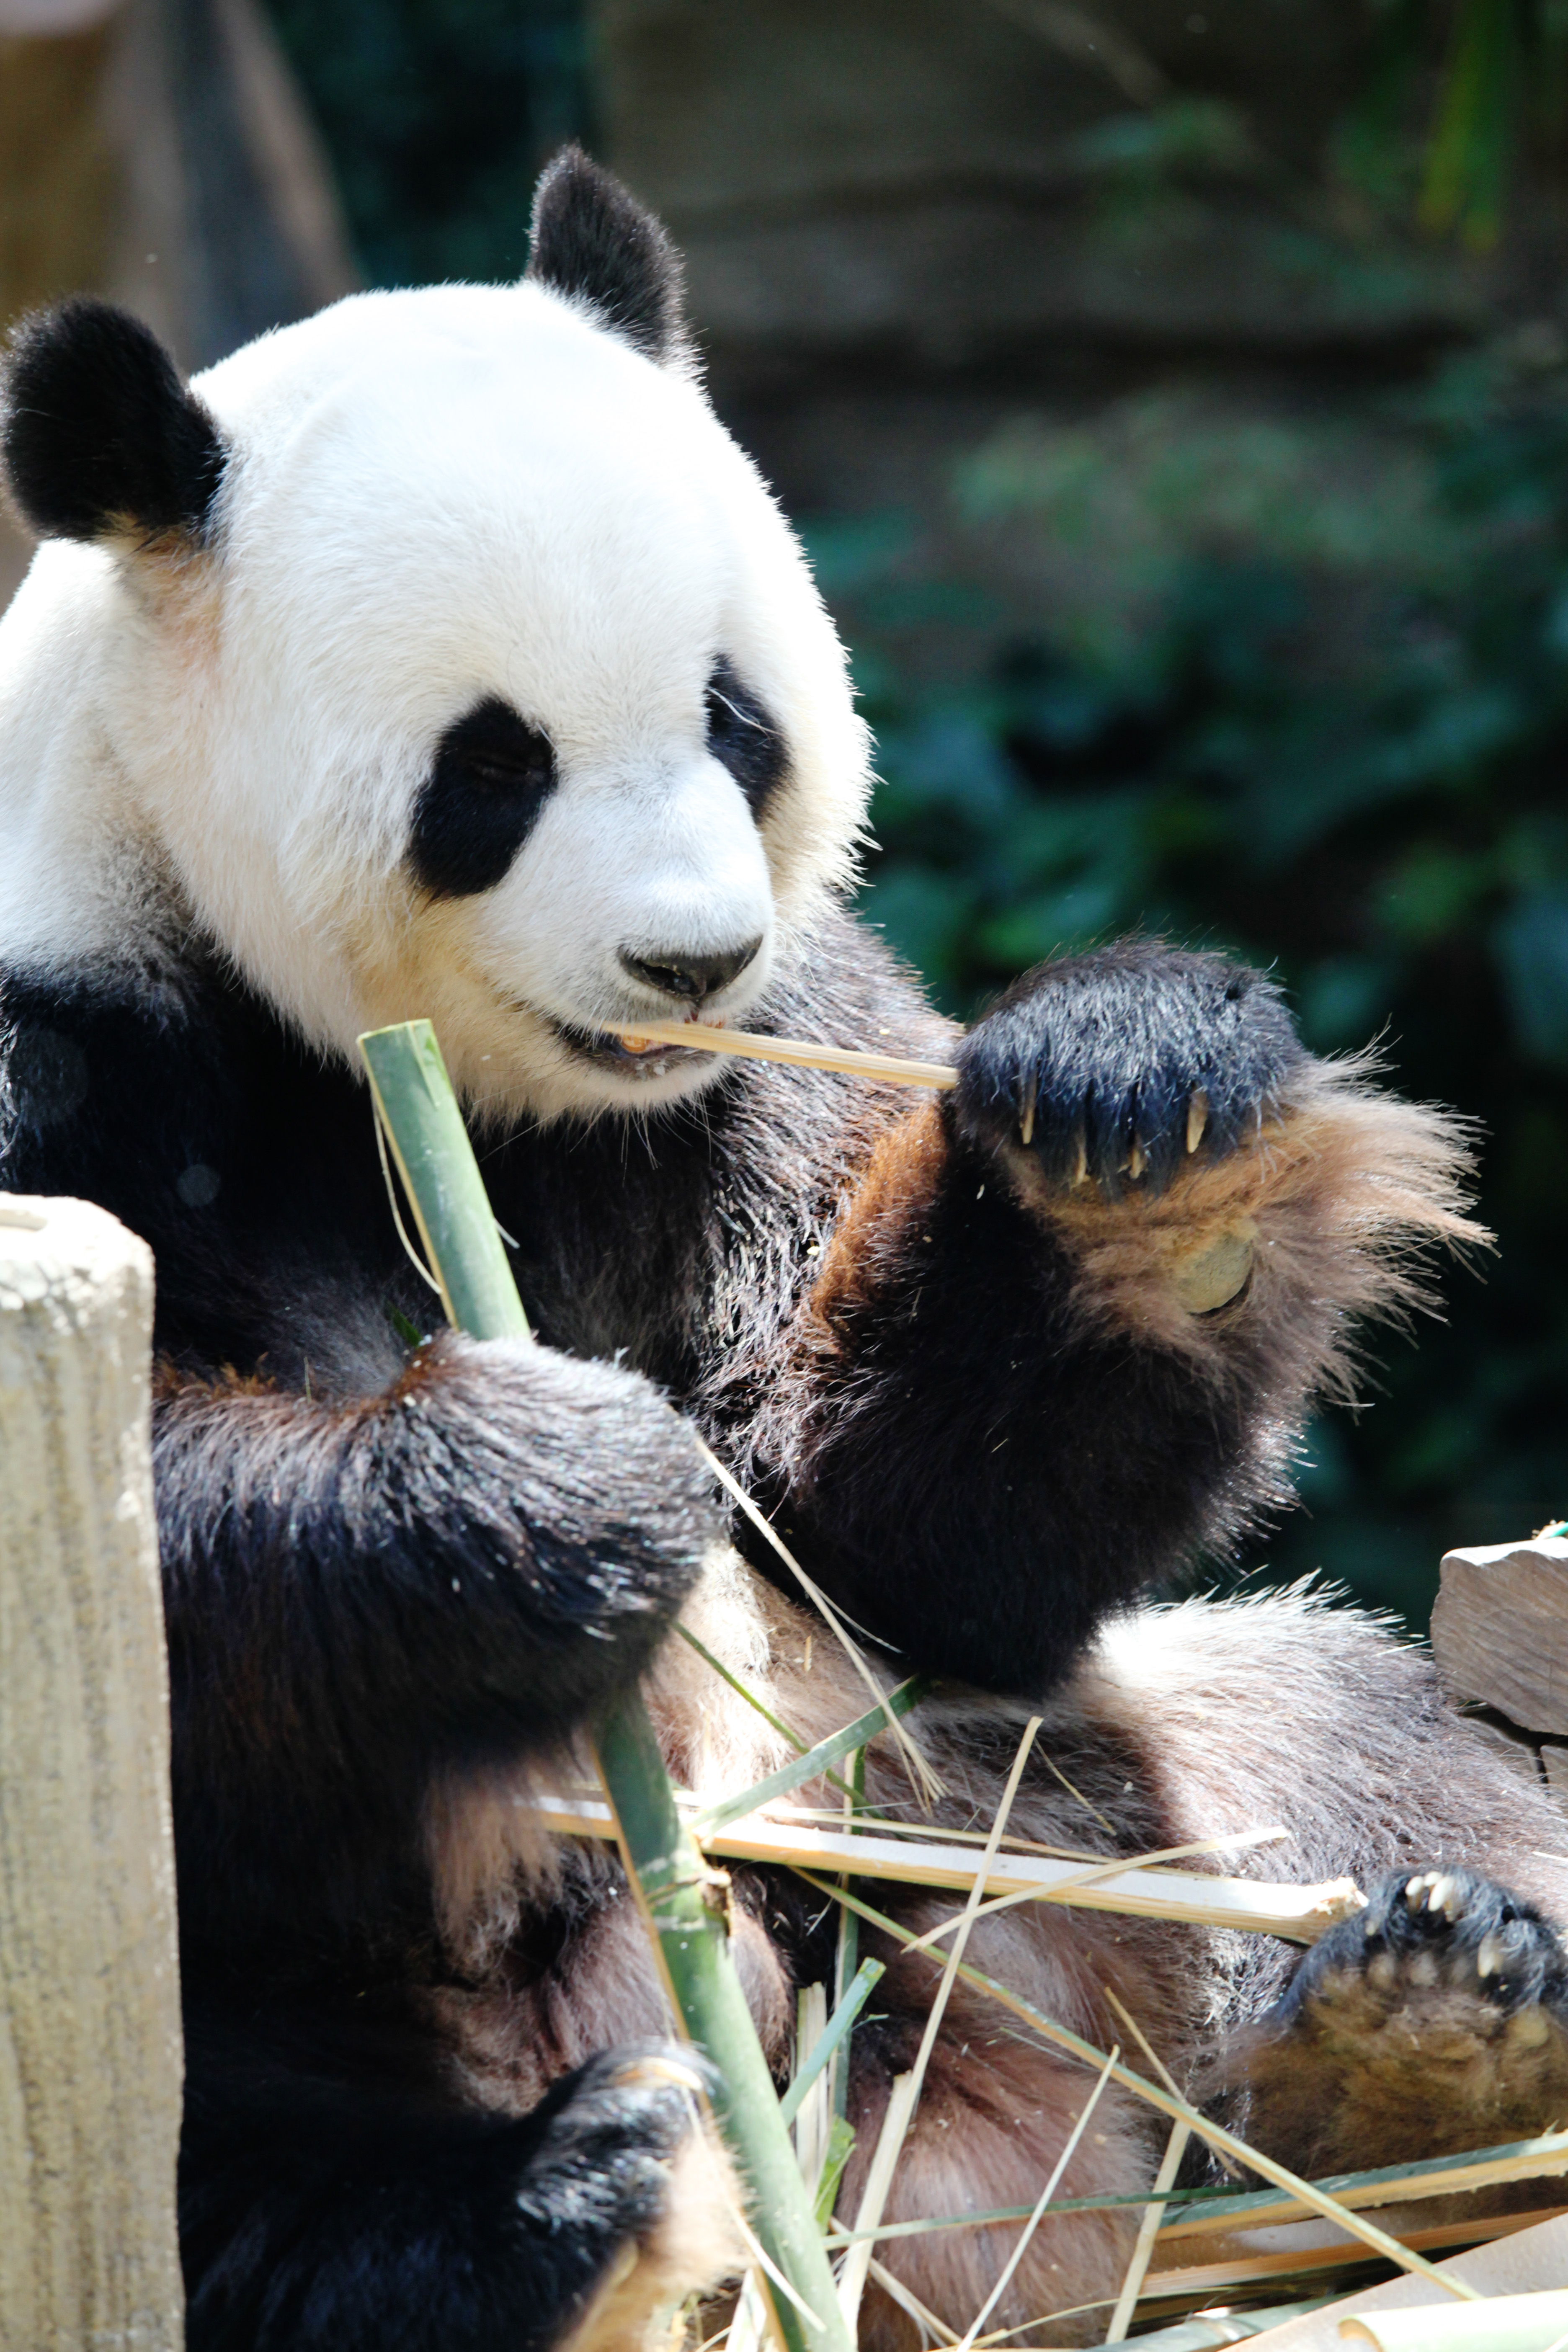panda: (11, 200, 1353, 2215)
